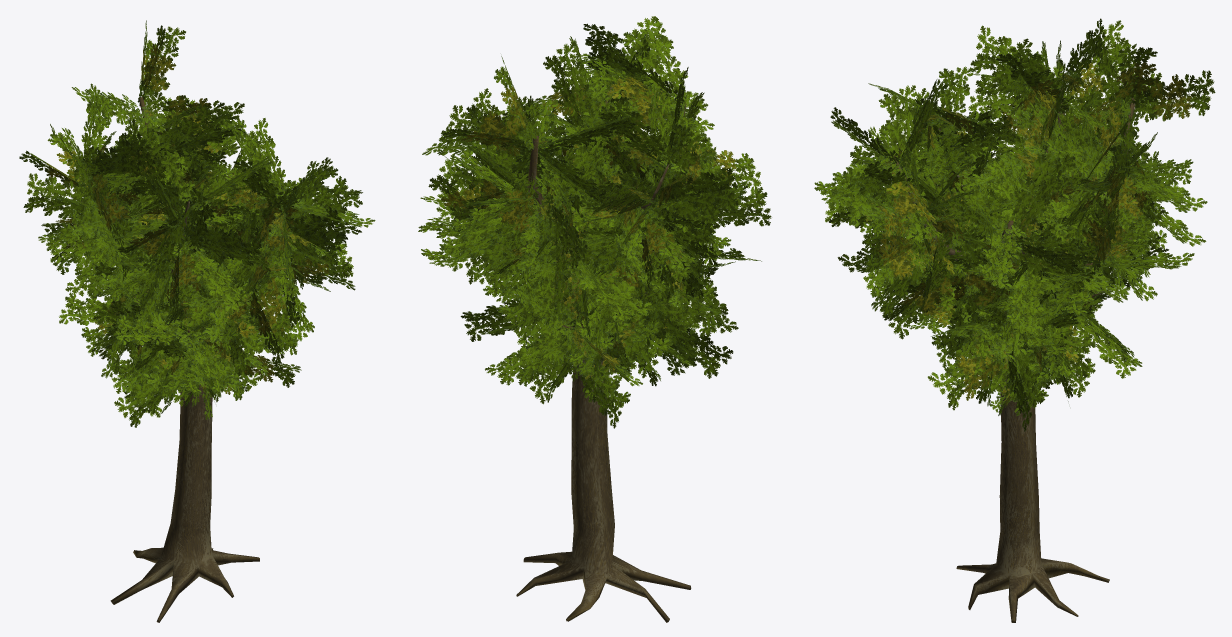
Rendered from low_poly_more_tree_two.glb.
The picture shows the model from 3 angles, left to right: view 1: azimuth 30°, elevation 25°; view 2: azimuth 150°, elevation 25°; view 3: azimuth 270°, elevation 25°; orthographic projection. The views are drawn at different scales.
Parts seen in each view (by area): view 1: branches-light-green-02, branches-green-02, tree-bark-low-02; view 2: branches-light-green-02, branches-green-02, tree-bark-low-02; view 3: branches-light-green-02, branches-green-02, tree-bark-low-02.
Boxes of the visible parts, bbox=[...] form: branches-light-green-02: bbox=[23, 83, 375, 427]; branches-green-02: bbox=[19, 20, 359, 419]; tree-bark-low-02: bbox=[85, 96, 284, 622]; branches-light-green-02: bbox=[418, 16, 771, 428]; branches-green-02: bbox=[428, 43, 761, 407]; tree-bark-low-02: bbox=[506, 87, 691, 622]; branches-light-green-02: bbox=[814, 18, 1207, 431]; branches-green-02: bbox=[837, 43, 1215, 415]; tree-bark-low-02: bbox=[893, 85, 1135, 622].
Size of the model in its own units: 10.68 by 16.66 by 10.79.
Materials: 2 (2 with a texture image).
